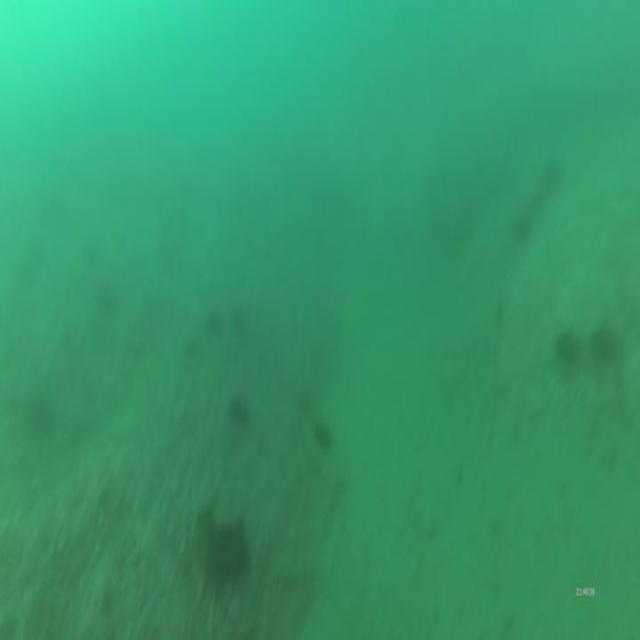echinus: (202, 510, 252, 596), (23, 392, 61, 447), (587, 319, 625, 370), (555, 326, 584, 379), (535, 158, 567, 198), (225, 386, 251, 433), (91, 278, 119, 319), (310, 412, 335, 457), (510, 207, 534, 253), (202, 308, 228, 345)
